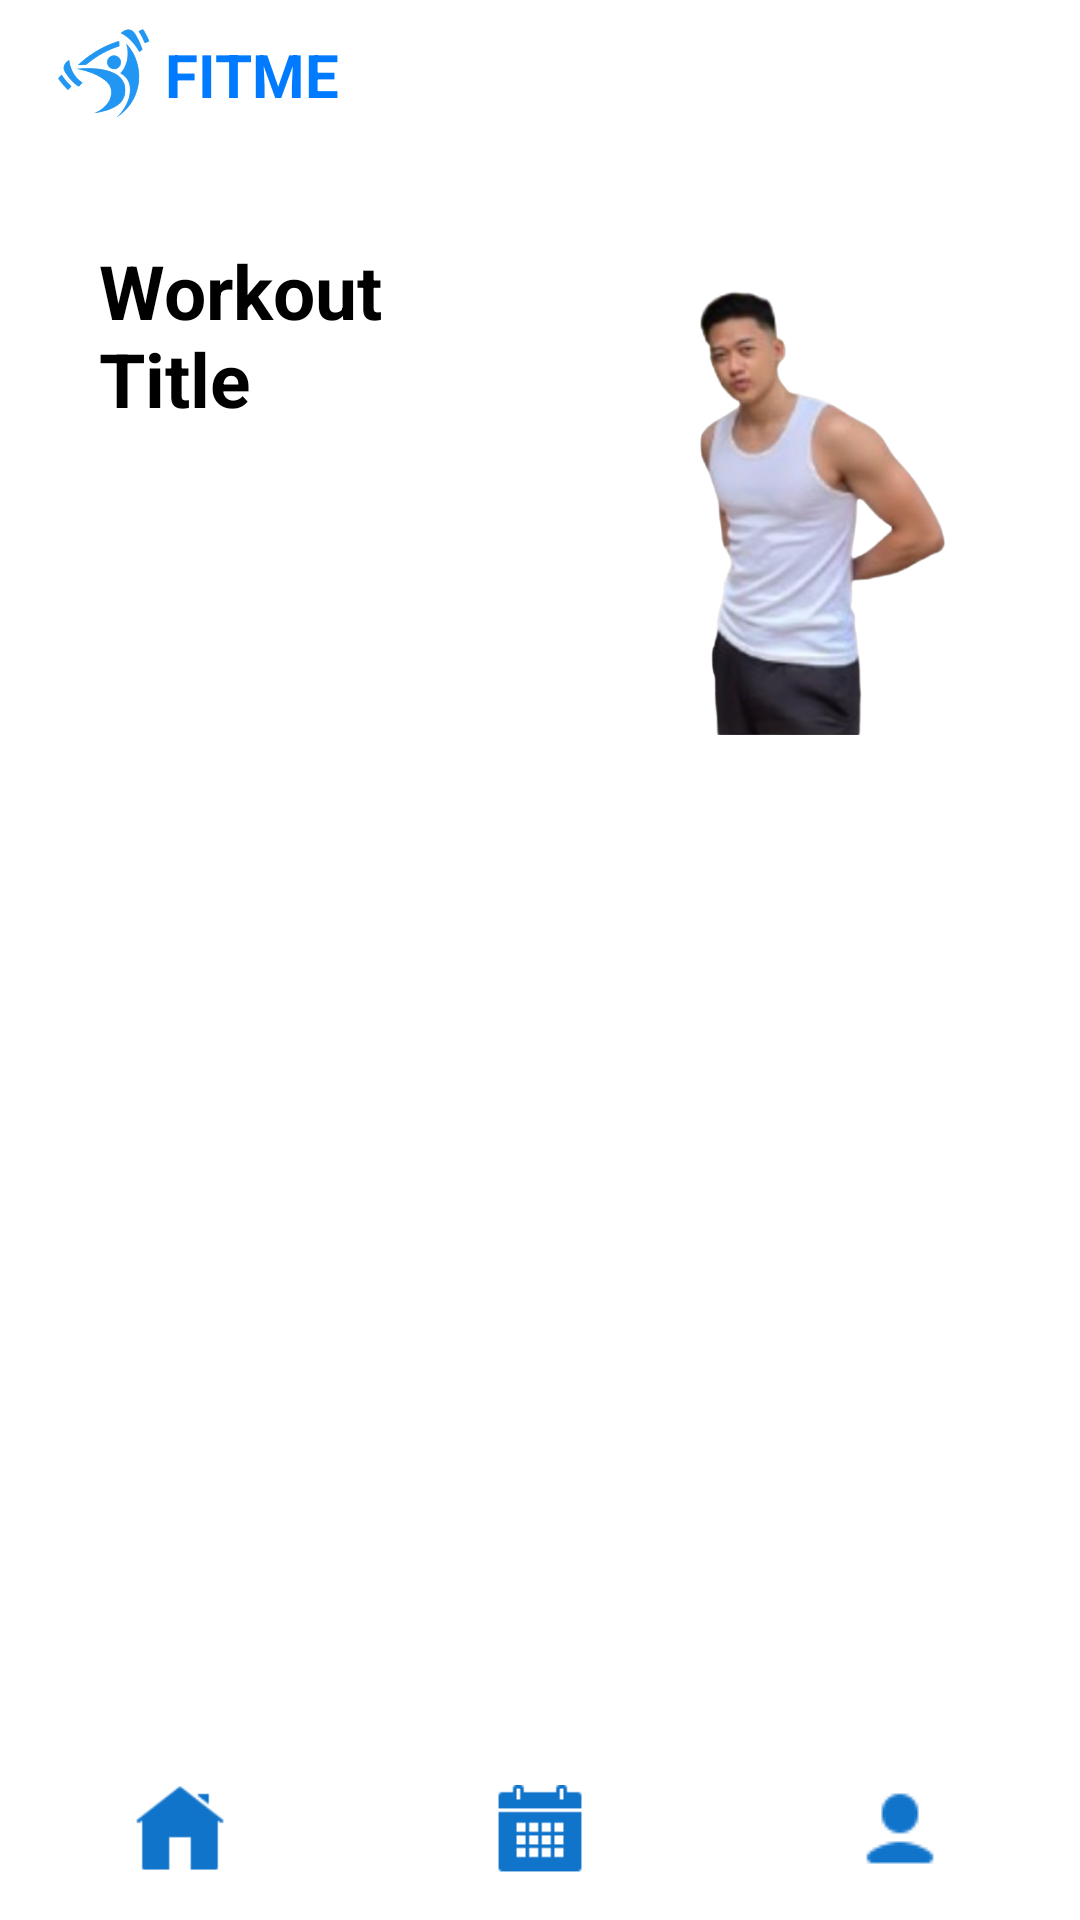

Icon click points for this 1080px x 1920px phone screenshot, format point (x, y):
calendar: point (540, 1828)
home: point (180, 1828)
profile: point (900, 1828)
